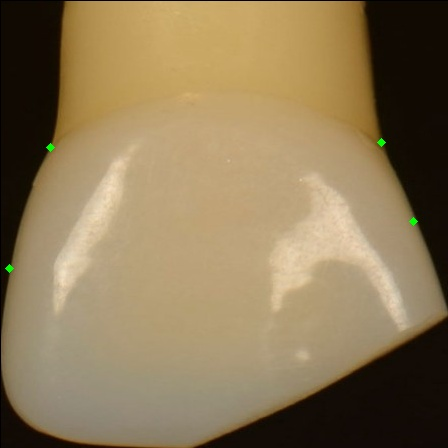coin_1: (381, 142, 401, 162)
coin_2: (413, 221, 433, 241)
coin_3: (50, 147, 70, 167)
coin_4: (9, 268, 29, 288)
